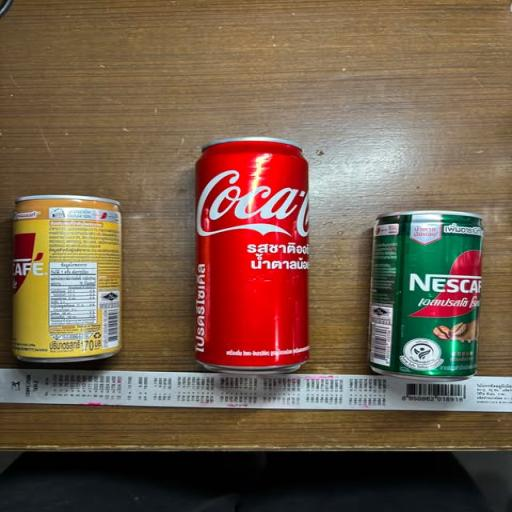canned: (176, 134, 330, 381), (355, 190, 499, 401), (10, 182, 134, 380)
